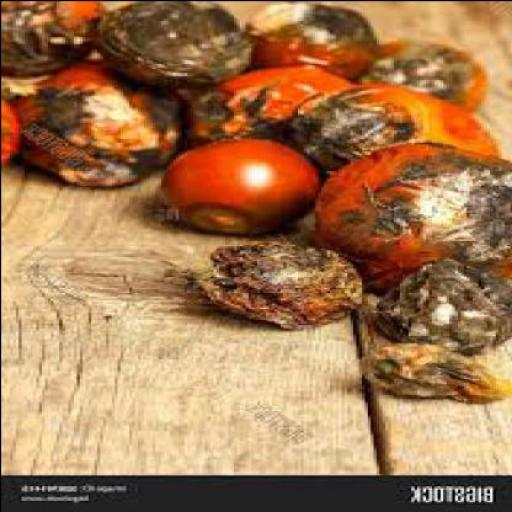biodegradable: (320, 139, 511, 294), (26, 52, 186, 180), (163, 234, 370, 328), (294, 77, 500, 167), (160, 132, 320, 231), (189, 59, 355, 147), (375, 254, 511, 348), (101, 1, 257, 79), (244, 1, 379, 75), (360, 338, 510, 402), (360, 38, 488, 108), (2, 2, 114, 72), (3, 74, 44, 164)
